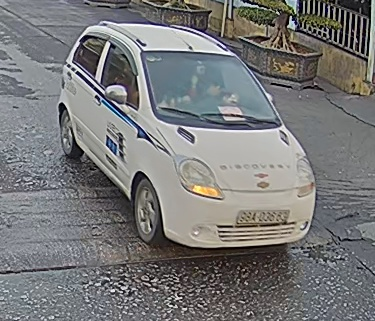vehicle plate: (237, 203, 294, 225)
